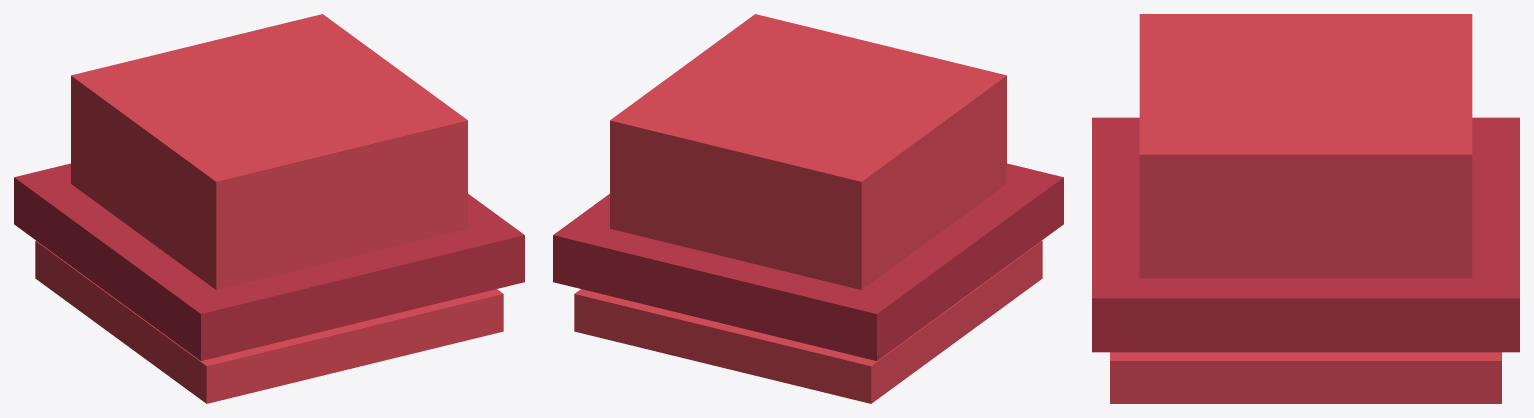
File: flamenco_manga_inf.glb
3 renders of one model, left to right at view 1: azimuth 30°, elevation 25°; view 2: azimuth 150°, elevation 25°; view 3: azimuth 270°, elevation 25°, orthographic. The views are drawn at different scales.
Parts seen in each view (by area): view 1: flamenco_manga_inf; view 2: flamenco_manga_inf; view 3: flamenco_manga_inf.
Part boxes in pixels (left/top/right/bottom): flamenco_manga_inf: left=14, top=14, right=524, bottom=403; flamenco_manga_inf: left=553, top=14, right=1063, bottom=403; flamenco_manga_inf: left=1092, top=14, right=1519, bottom=403.
Size of the model in its own units: 0.36 by 0.22 by 0.36.
